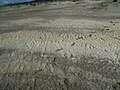human_foot_print: (101, 27, 110, 33), (56, 46, 64, 52), (75, 36, 83, 41), (51, 58, 58, 63), (89, 34, 94, 38), (72, 43, 76, 46)
